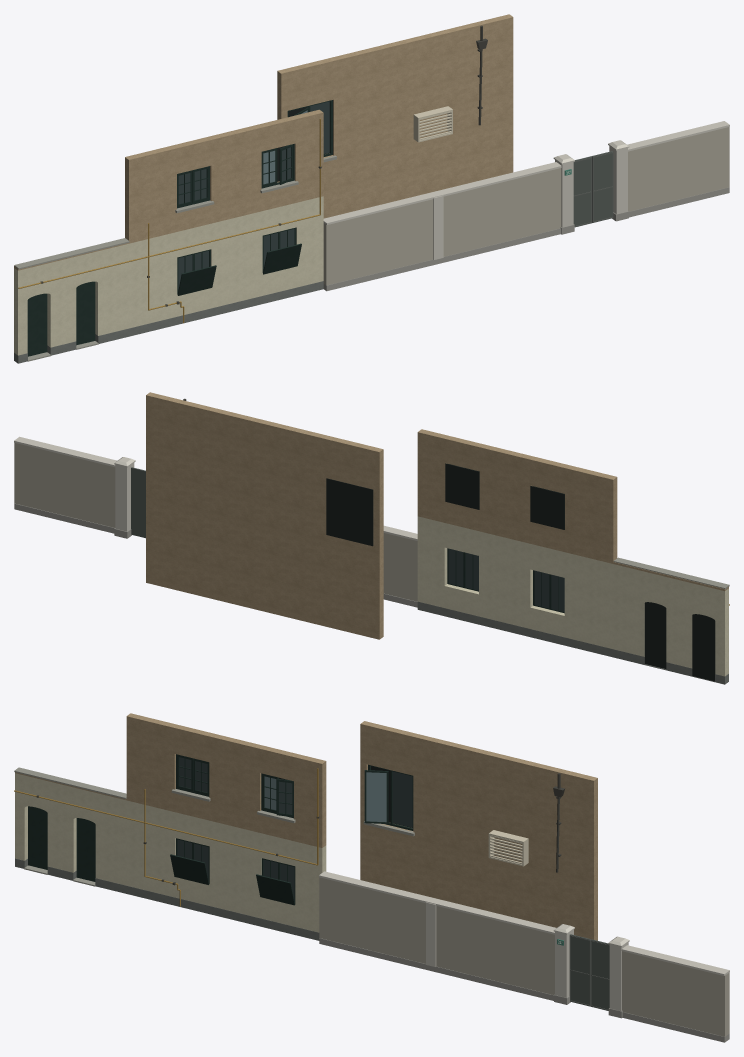
Rendered from lod-source.glb.
3 views of the same model, one above another, from view 1: azimuth 30°, elevation 25°; view 2: azimuth 150°, elevation 25°; view 3: azimuth 330°, elevation 25° (orthographic).
Visible parts, largest first — view 1: 长乐坊337号院门与相邻临街窗墙; view 2: 长乐坊337号院门与相邻临街窗墙; view 3: 长乐坊337号院门与相邻临街窗墙.
Part boxes in pixels (x1=…): 长乐坊337号院门与相邻临街窗墙: x1=14, y1=14, x2=729, y2=363; 长乐坊337号院门与相邻临街窗墙: x1=14, y1=392, x2=729, y2=684; 长乐坊337号院门与相邻临街窗墙: x1=14, y1=713, x2=729, y2=1042.
Bounding box in the file's own units: 22.43 × 5.64 × 2.71.
18 materials, 4 textured.
